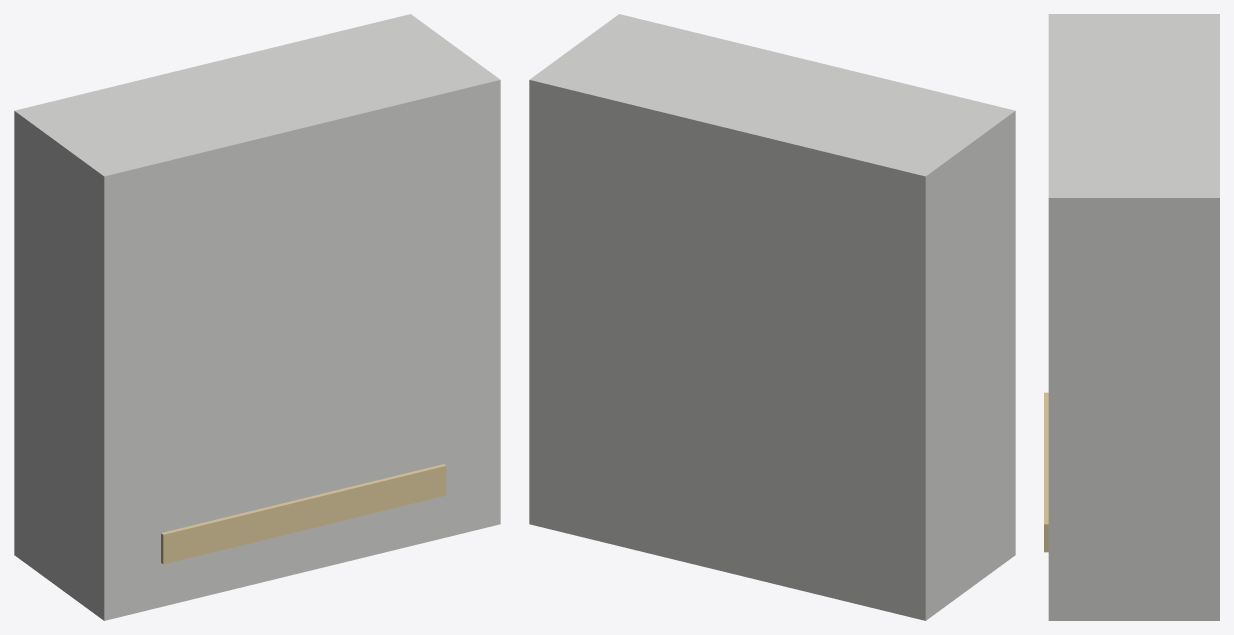
The model's file is dispenser_papel.glb.
3 renders of one model, left to right at view 1: azimuth 30°, elevation 25°; view 2: azimuth 150°, elevation 25°; view 3: azimuth 270°, elevation 25°, orthographic. The views are drawn at different scales.
Parts seen in each view (by area): view 1: dispenser_papel; view 2: dispenser_papel; view 3: dispenser_papel.
Boxes of the visible parts, box(x1,y1,x2,y2) form: dispenser_papel: box(14, 14, 500, 620); dispenser_papel: box(529, 14, 1015, 620); dispenser_papel: box(1044, 14, 1219, 620).
Size of the model in its own units: 0.28 by 0.3 by 0.113.
